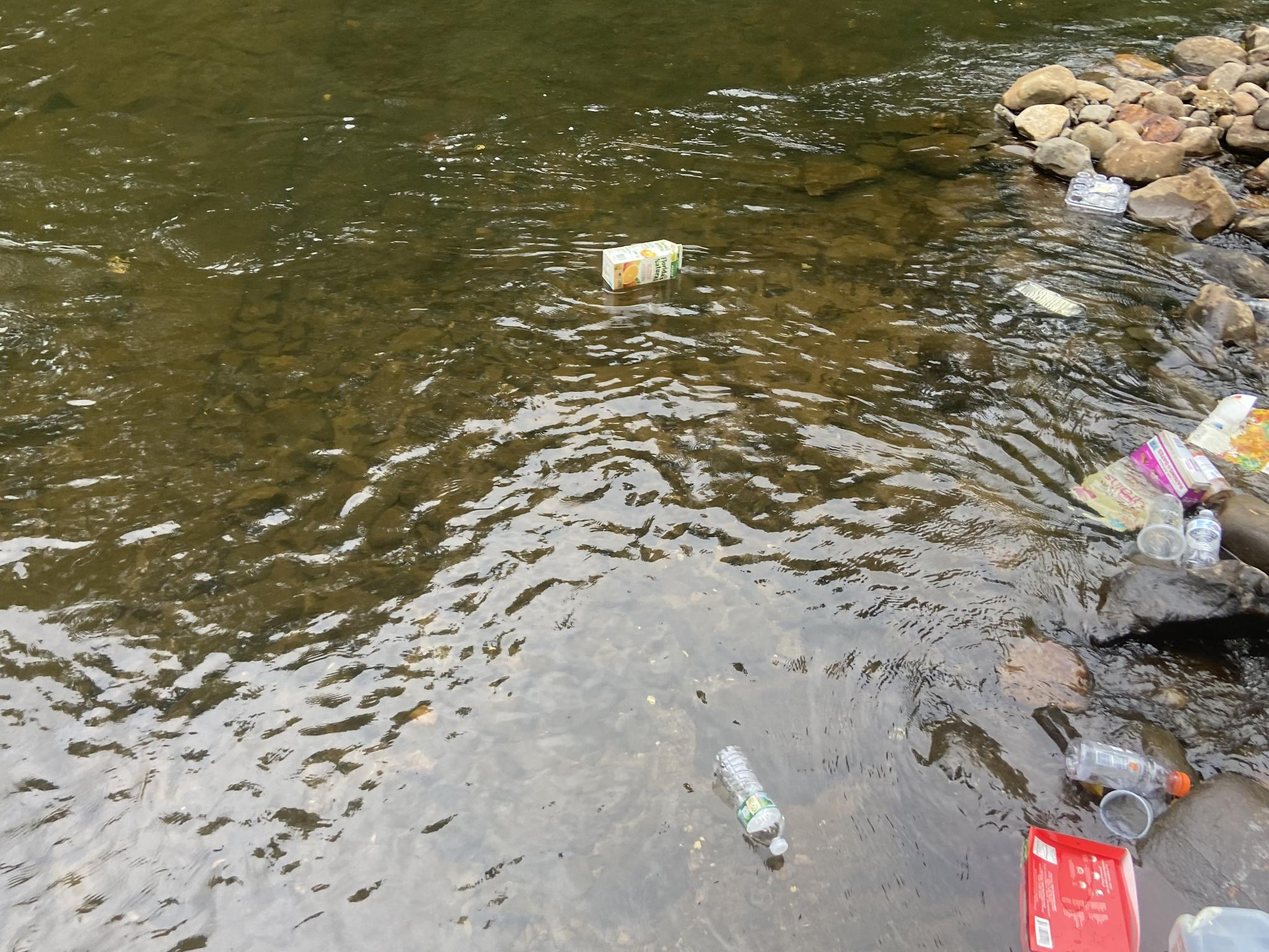cardboard: (1008, 820, 1150, 952), (1057, 427, 1210, 545), (1177, 382, 1269, 491), (599, 227, 696, 296)
glass: (1169, 440, 1239, 511)
metal: (998, 273, 1094, 356)
plastic: (702, 740, 801, 872), (1052, 727, 1204, 809), (1160, 884, 1269, 951), (1097, 784, 1188, 845), (1058, 166, 1138, 230), (1133, 487, 1191, 569), (1176, 502, 1227, 578)
